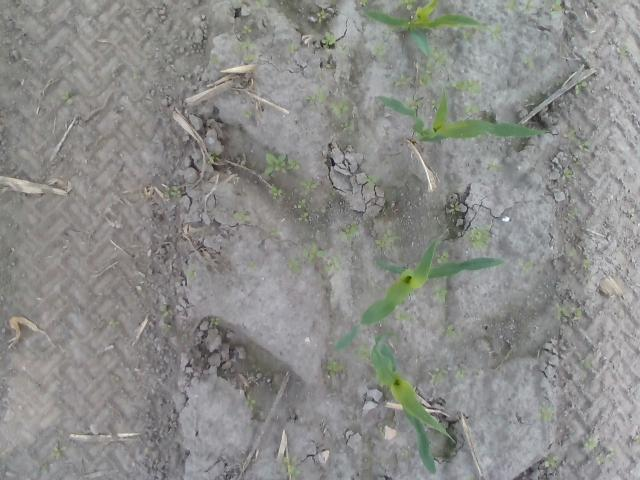Maize: (336, 236, 508, 352), (369, 332, 458, 474), (376, 94, 546, 145), (362, 0, 487, 57)
Weeds: (303, 244, 342, 274), (265, 150, 302, 175), (328, 96, 352, 128), (468, 224, 496, 249), (553, 304, 583, 321), (451, 78, 482, 94), (339, 219, 358, 241), (376, 229, 398, 247), (282, 457, 302, 476), (430, 283, 448, 304), (324, 358, 345, 376), (418, 63, 433, 88), (294, 197, 308, 222), (302, 178, 319, 196), (430, 367, 448, 384), (431, 49, 450, 65), (232, 208, 250, 222), (286, 257, 301, 273), (354, 345, 370, 360), (574, 79, 587, 97), (244, 392, 256, 410), (268, 185, 282, 200), (320, 31, 334, 46), (394, 74, 409, 88), (550, 0, 564, 15), (442, 321, 456, 336), (543, 455, 559, 468), (577, 139, 592, 152), (59, 91, 74, 104), (490, 24, 502, 40), (584, 436, 598, 449), (306, 93, 324, 103), (400, 0, 418, 10), (238, 41, 260, 49), (463, 104, 480, 114), (539, 408, 553, 420), (434, 252, 449, 263), (316, 10, 328, 23), (522, 259, 534, 272), (370, 45, 384, 56), (394, 311, 411, 320), (504, 1, 516, 12), (168, 185, 178, 198), (50, 447, 61, 458), (582, 258, 592, 270), (244, 54, 256, 63), (562, 168, 572, 178), (524, 0, 534, 10), (462, 30, 472, 40), (449, 204, 460, 213), (240, 25, 252, 33), (366, 174, 374, 186), (210, 317, 220, 326), (456, 367, 464, 378), (270, 226, 278, 236), (208, 151, 216, 160), (358, 0, 368, 7)
